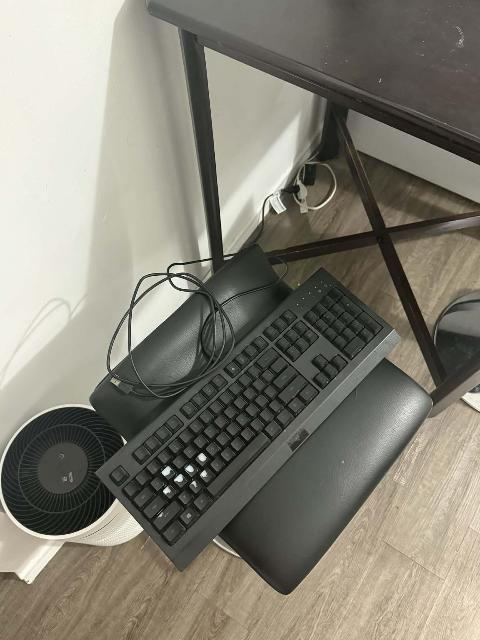ahkeyboard: (93, 261, 405, 577)
